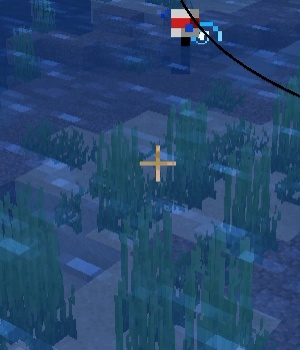up: (163, 5, 205, 69)
